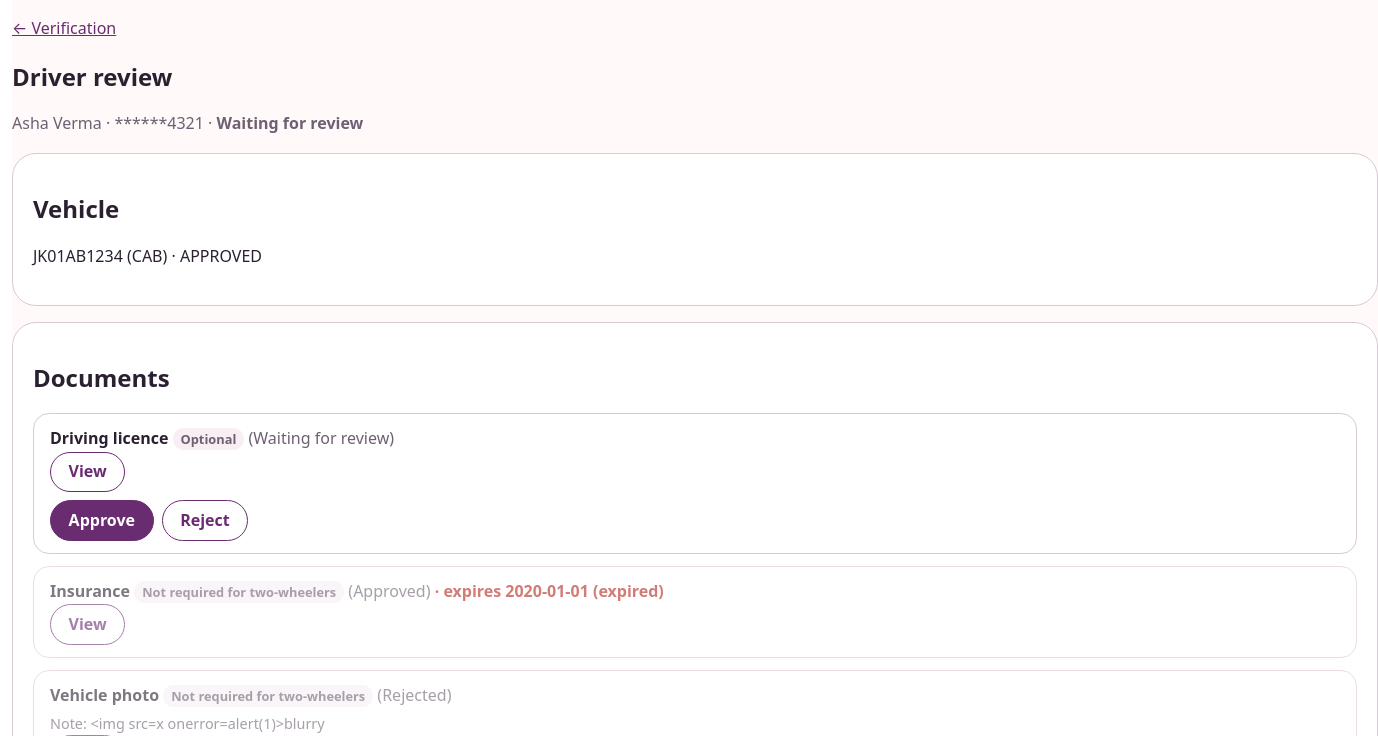
Test case: DriverReview › when the server rejects a review action › shows the server message for a failed document approval instead of treating it as success
Click the button "Approve" at (102, 520), box 50,500 -> 154,541
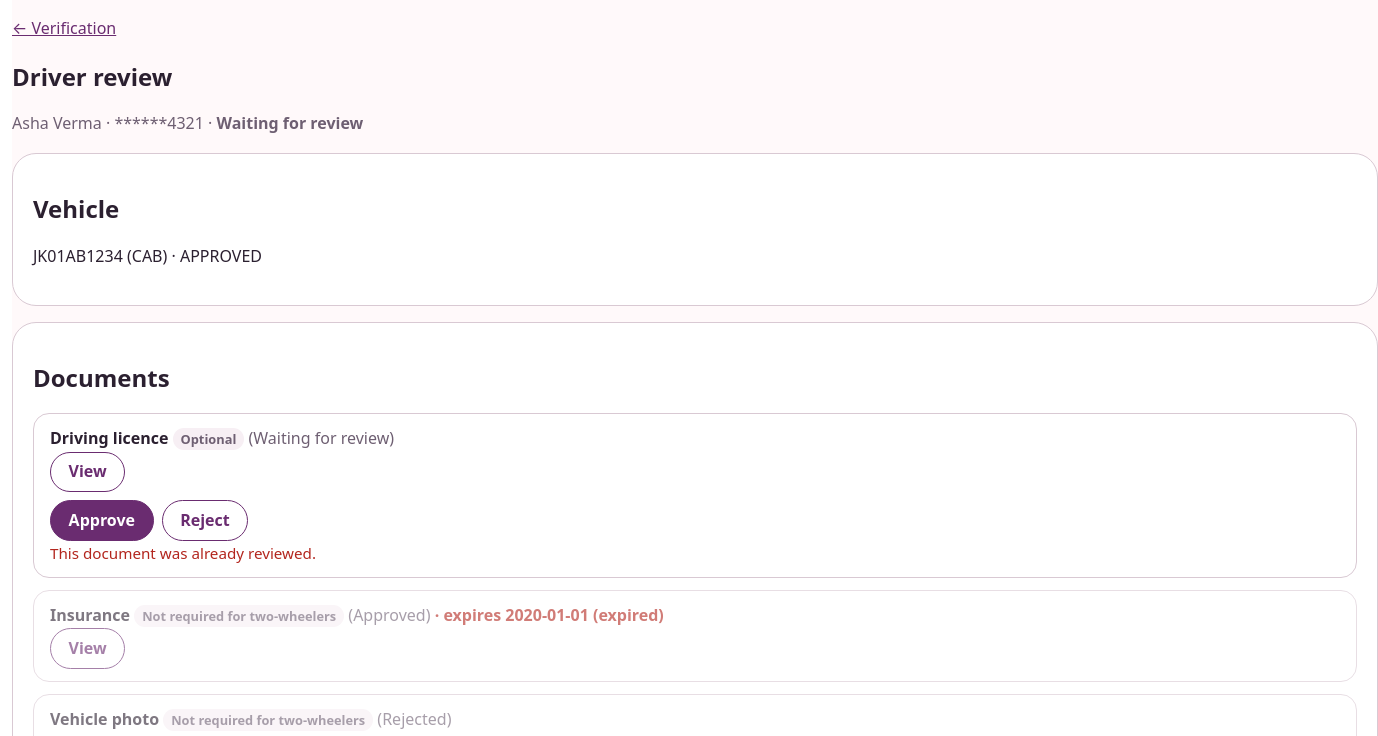
Check: the text "This document was already reviewed." is shown, box 50,543 -> 316,563
